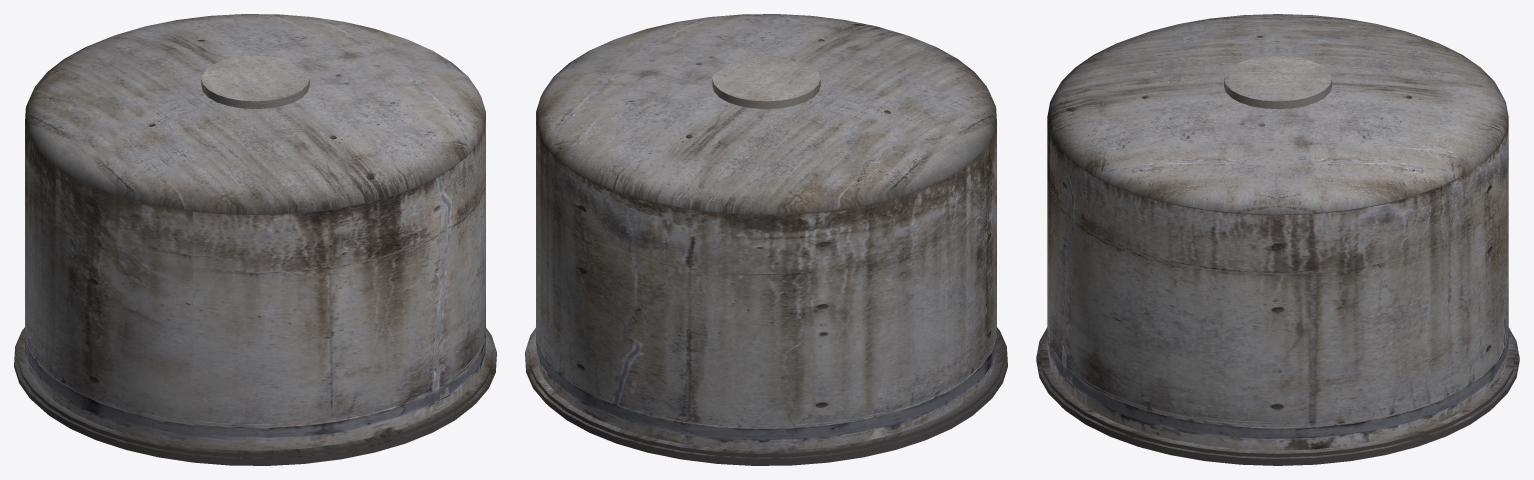
File: OilLargeTank02.FBX
3 views of the same model, side by side, from view 1: azimuth 30°, elevation 25°; view 2: azimuth 150°, elevation 25°; view 3: azimuth 270°, elevation 25° (orthographic).
Visible parts, largest first — view 1: OilLargeTank02; view 2: OilLargeTank02; view 3: OilLargeTank02.
Boxes of the visible parts, bbox=[...] form: OilLargeTank02: bbox=[14, 14, 496, 465]; OilLargeTank02: bbox=[525, 14, 1007, 465]; OilLargeTank02: bbox=[1036, 14, 1519, 465].
Bounding box in the file's own units: 1000 × 655 × 1000.
